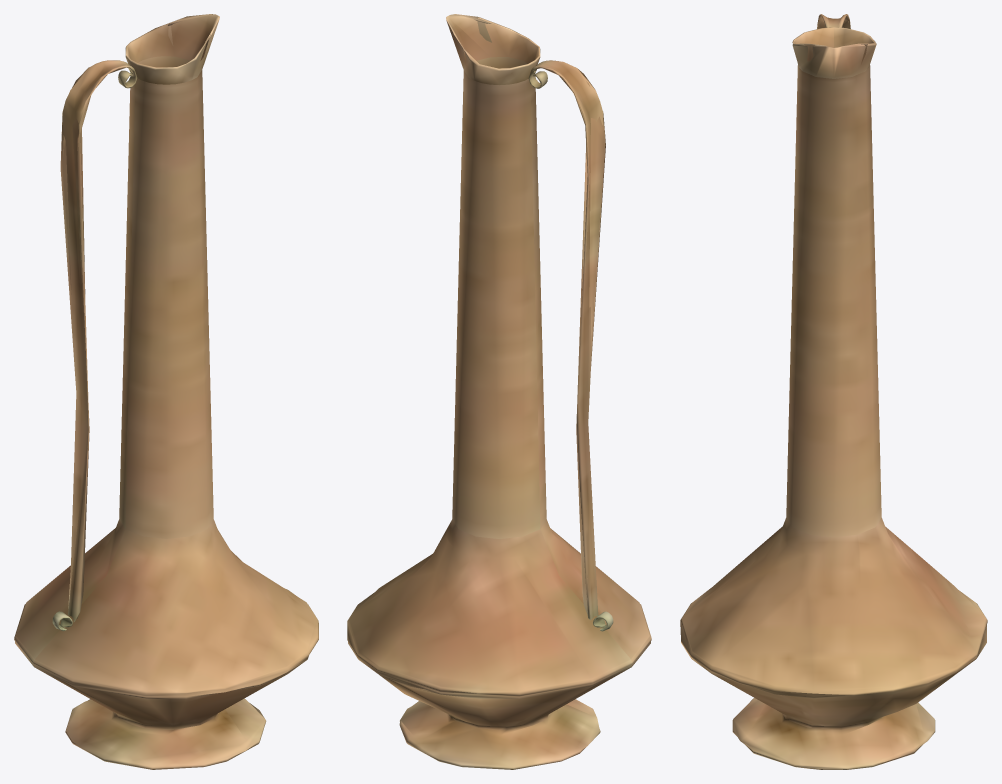
The model's file is brass-vase-02.glb.
3 renders of one model, left to right at view 1: azimuth 30°, elevation 25°; view 2: azimuth 150°, elevation 25°; view 3: azimuth 270°, elevation 25°, orthographic.
Parts seen in each view (by area): view 1: brass_vase_02; view 2: brass_vase_02; view 3: brass_vase_02.
Part boxes in pixels (box(x1,y1,x2,y2)): brass_vase_02: box(14, 14, 318, 769); brass_vase_02: box(347, 14, 651, 769); brass_vase_02: box(680, 14, 987, 769).
Size of the model in its own units: 0.2094 by 0.5286 by 0.2084.
Materials: 1 (1 with a texture image).
